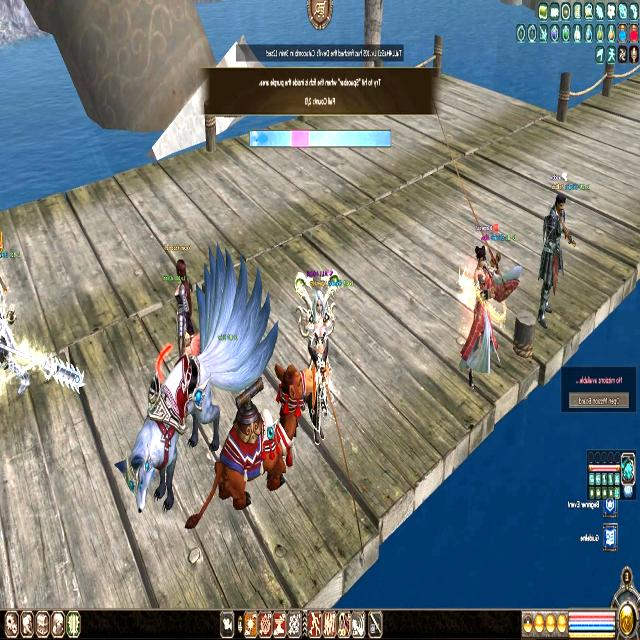fishes: (255, 132, 269, 145)
